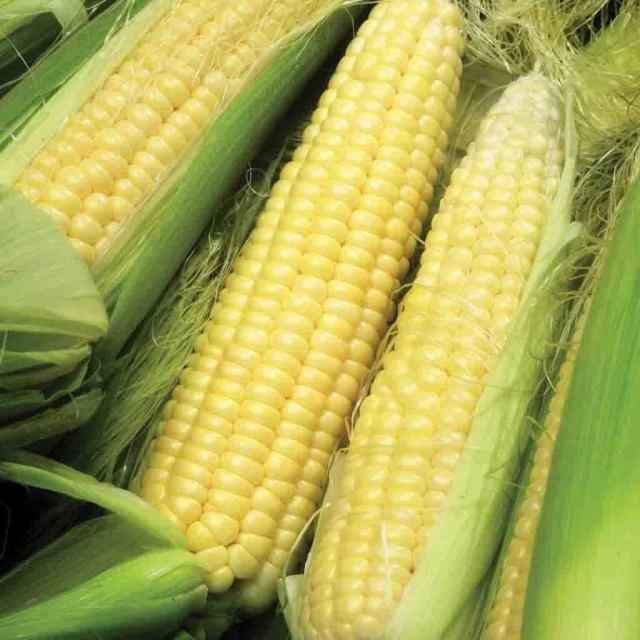corn: (132, 0, 485, 591), (295, 67, 603, 640), (6, 0, 353, 288)
